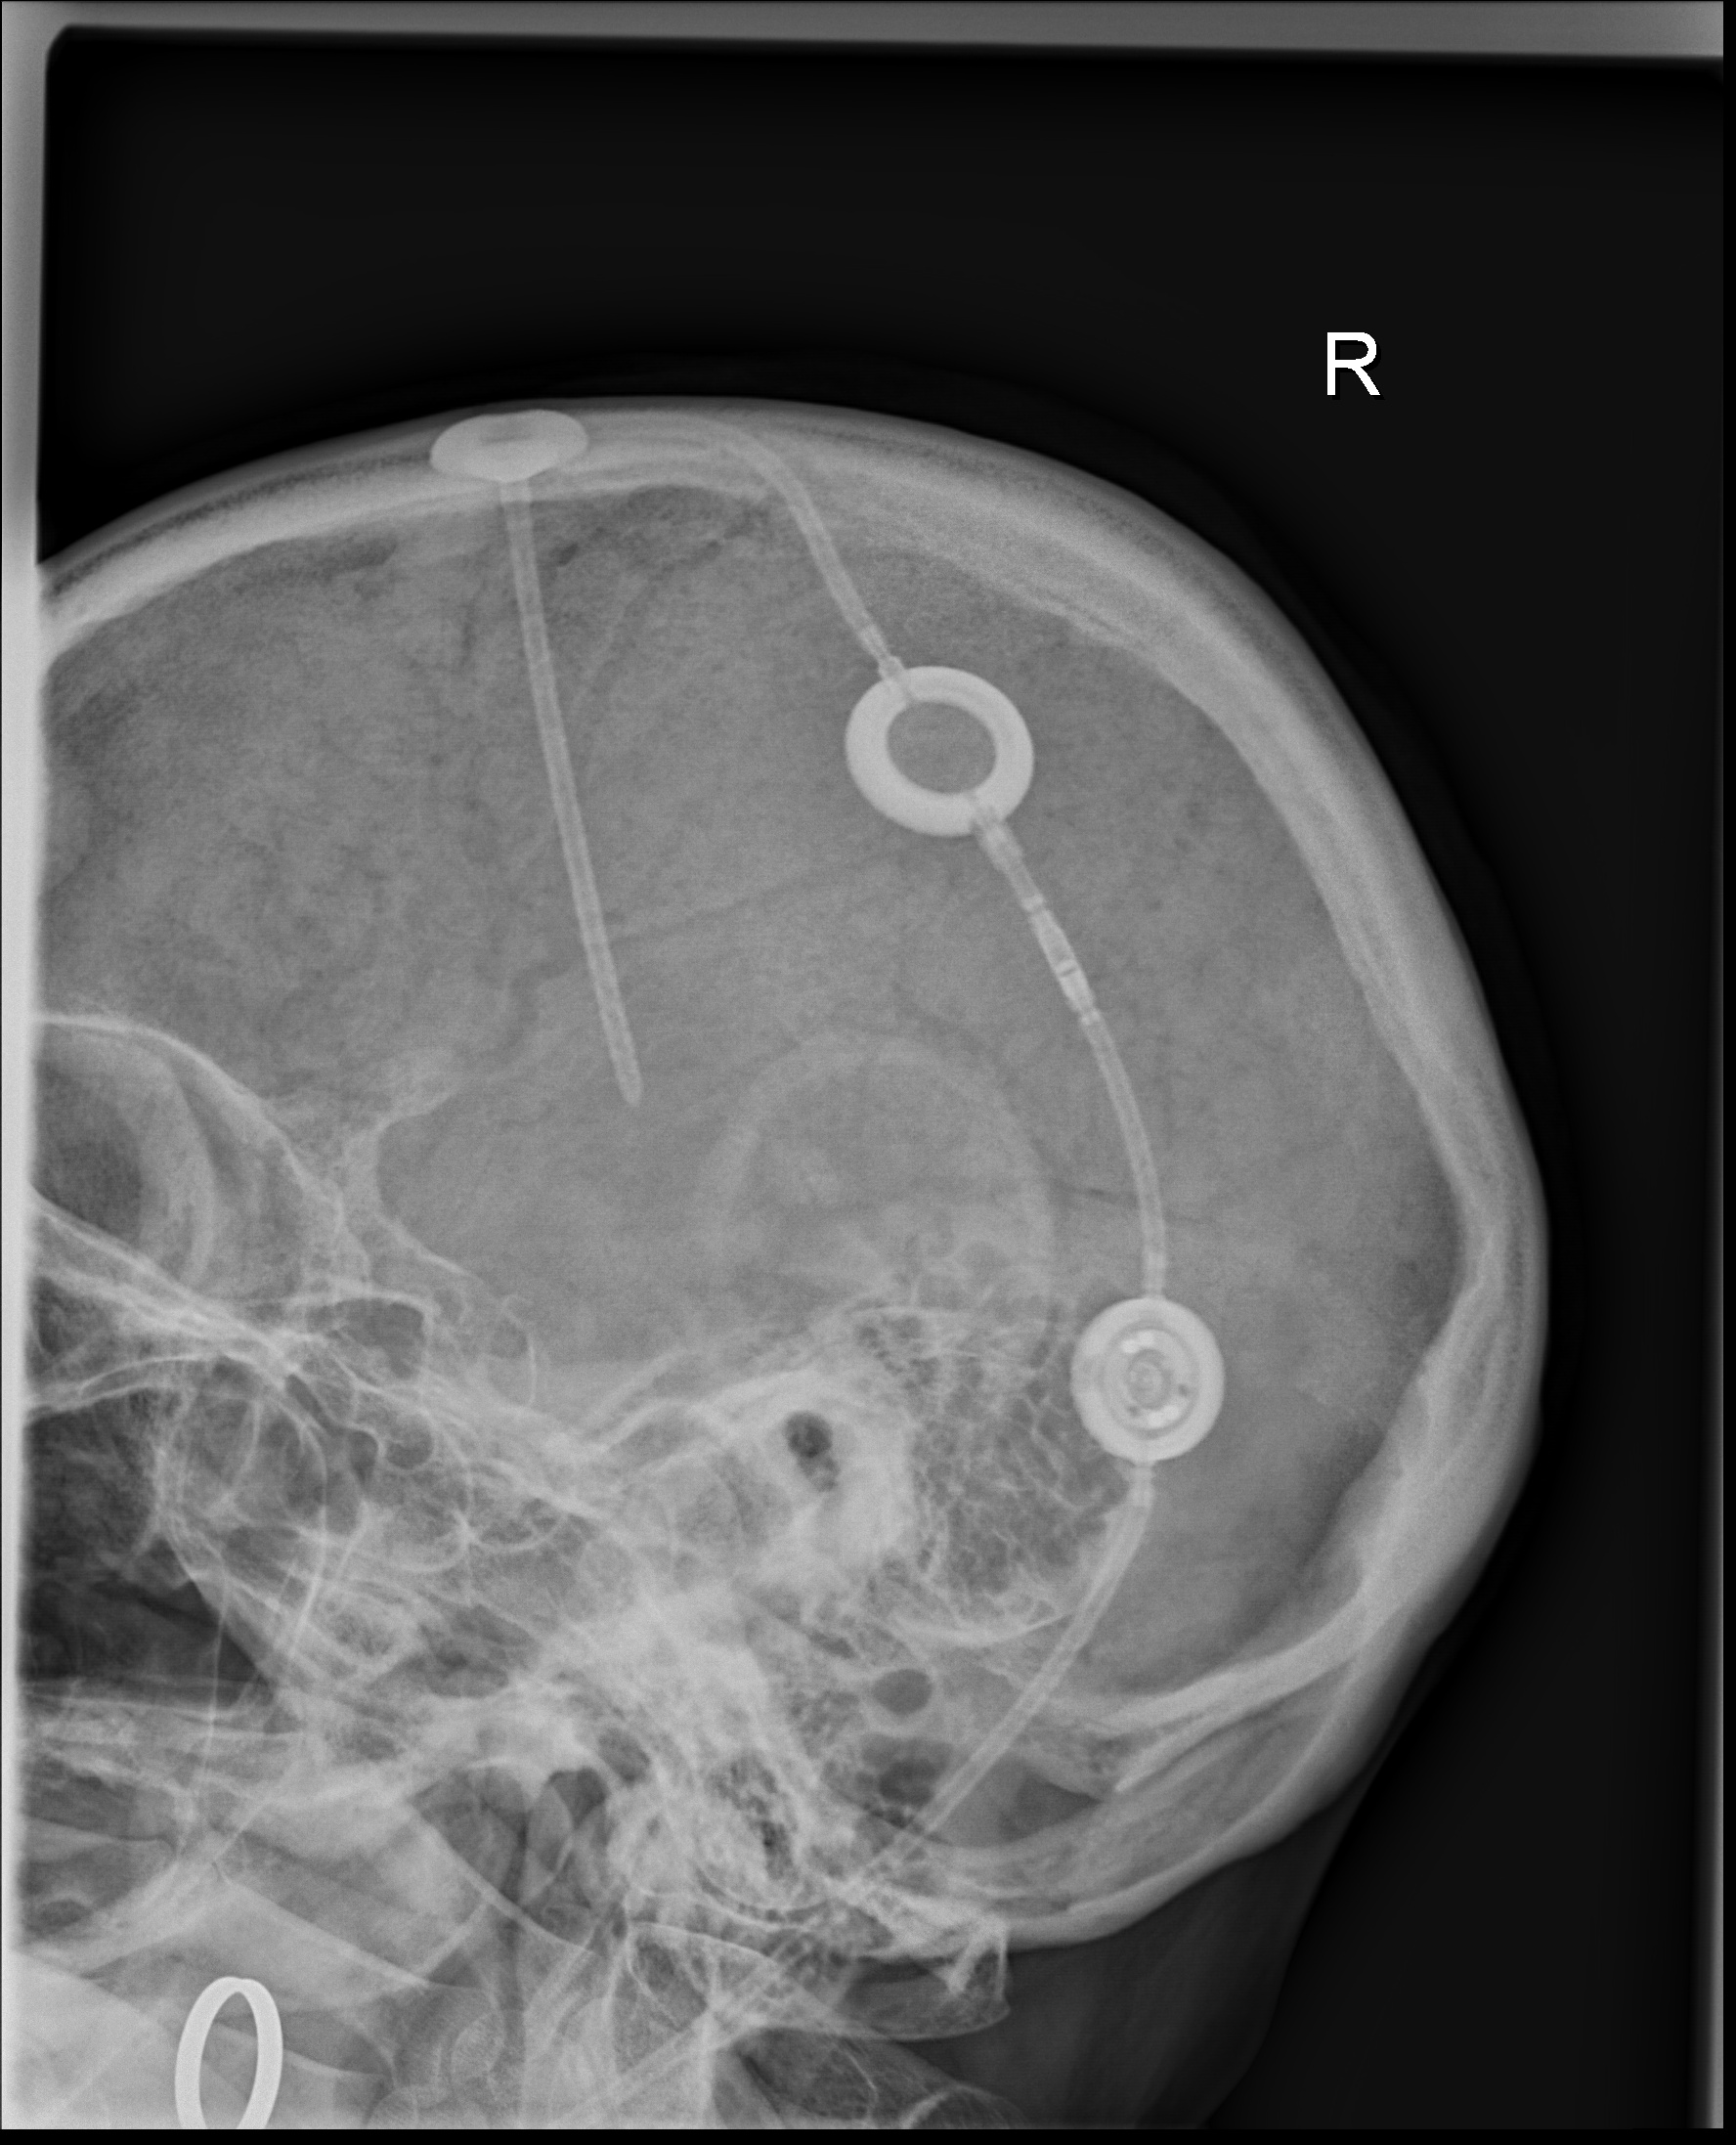proGAV 2.0: (1061, 1284, 1231, 1475)
